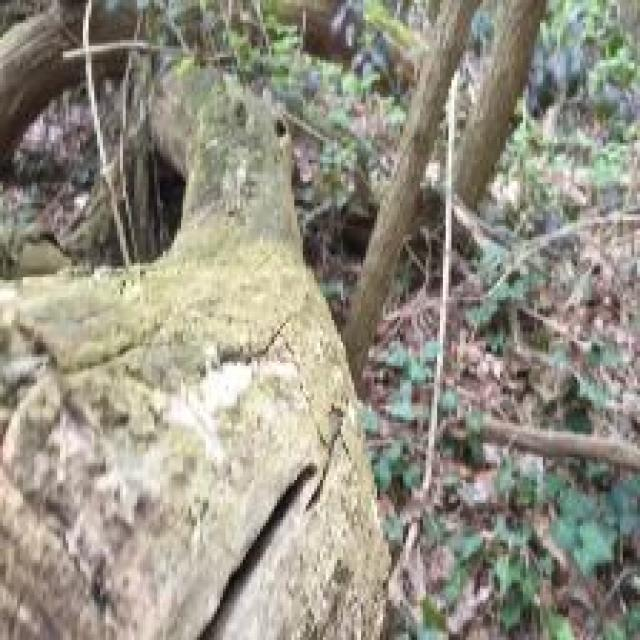other: (150, 328, 295, 461)
